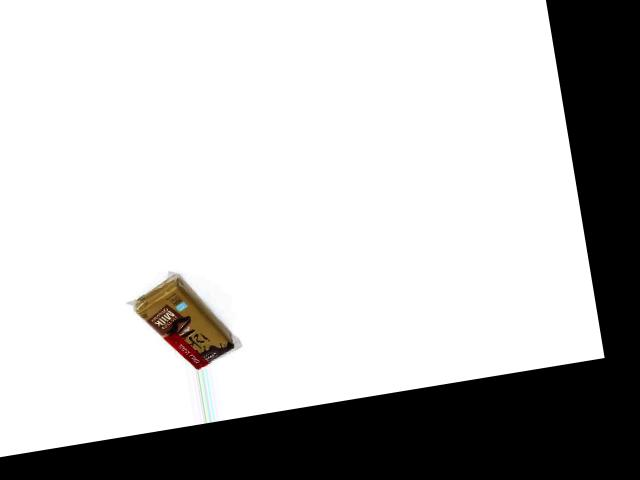chocolate: (119, 267, 238, 378)
